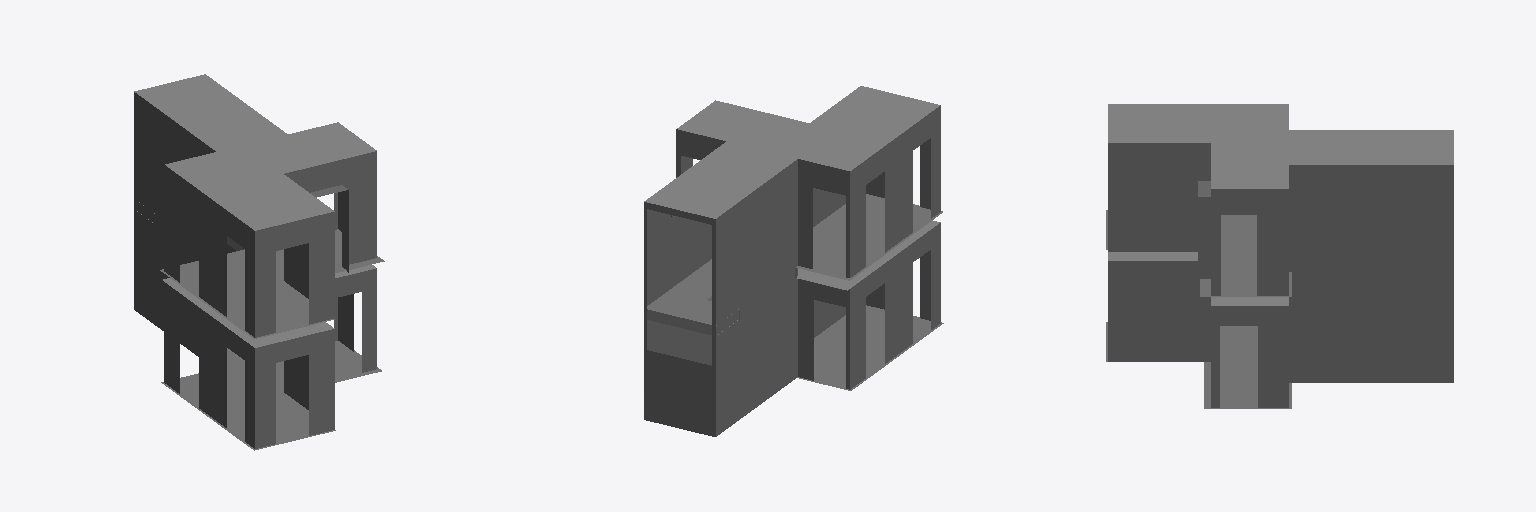
The model's file is Hall.obj.
3 views of the same model, side by side, from view 1: azimuth 30°, elevation 25°; view 2: azimuth 150°, elevation 25°; view 3: azimuth 270°, elevation 25° (orthographic).
Parts seen in each view (by area): view 1: Body; view 2: Body; view 3: Body.
Part boxes in pixels (x1,y1,x2,y2): Body: (134, 74, 384, 450); Body: (644, 86, 943, 436); Body: (1106, 104, 1453, 408).
Size of the model in its own units: 2.92 by 3.42 by 4.95.